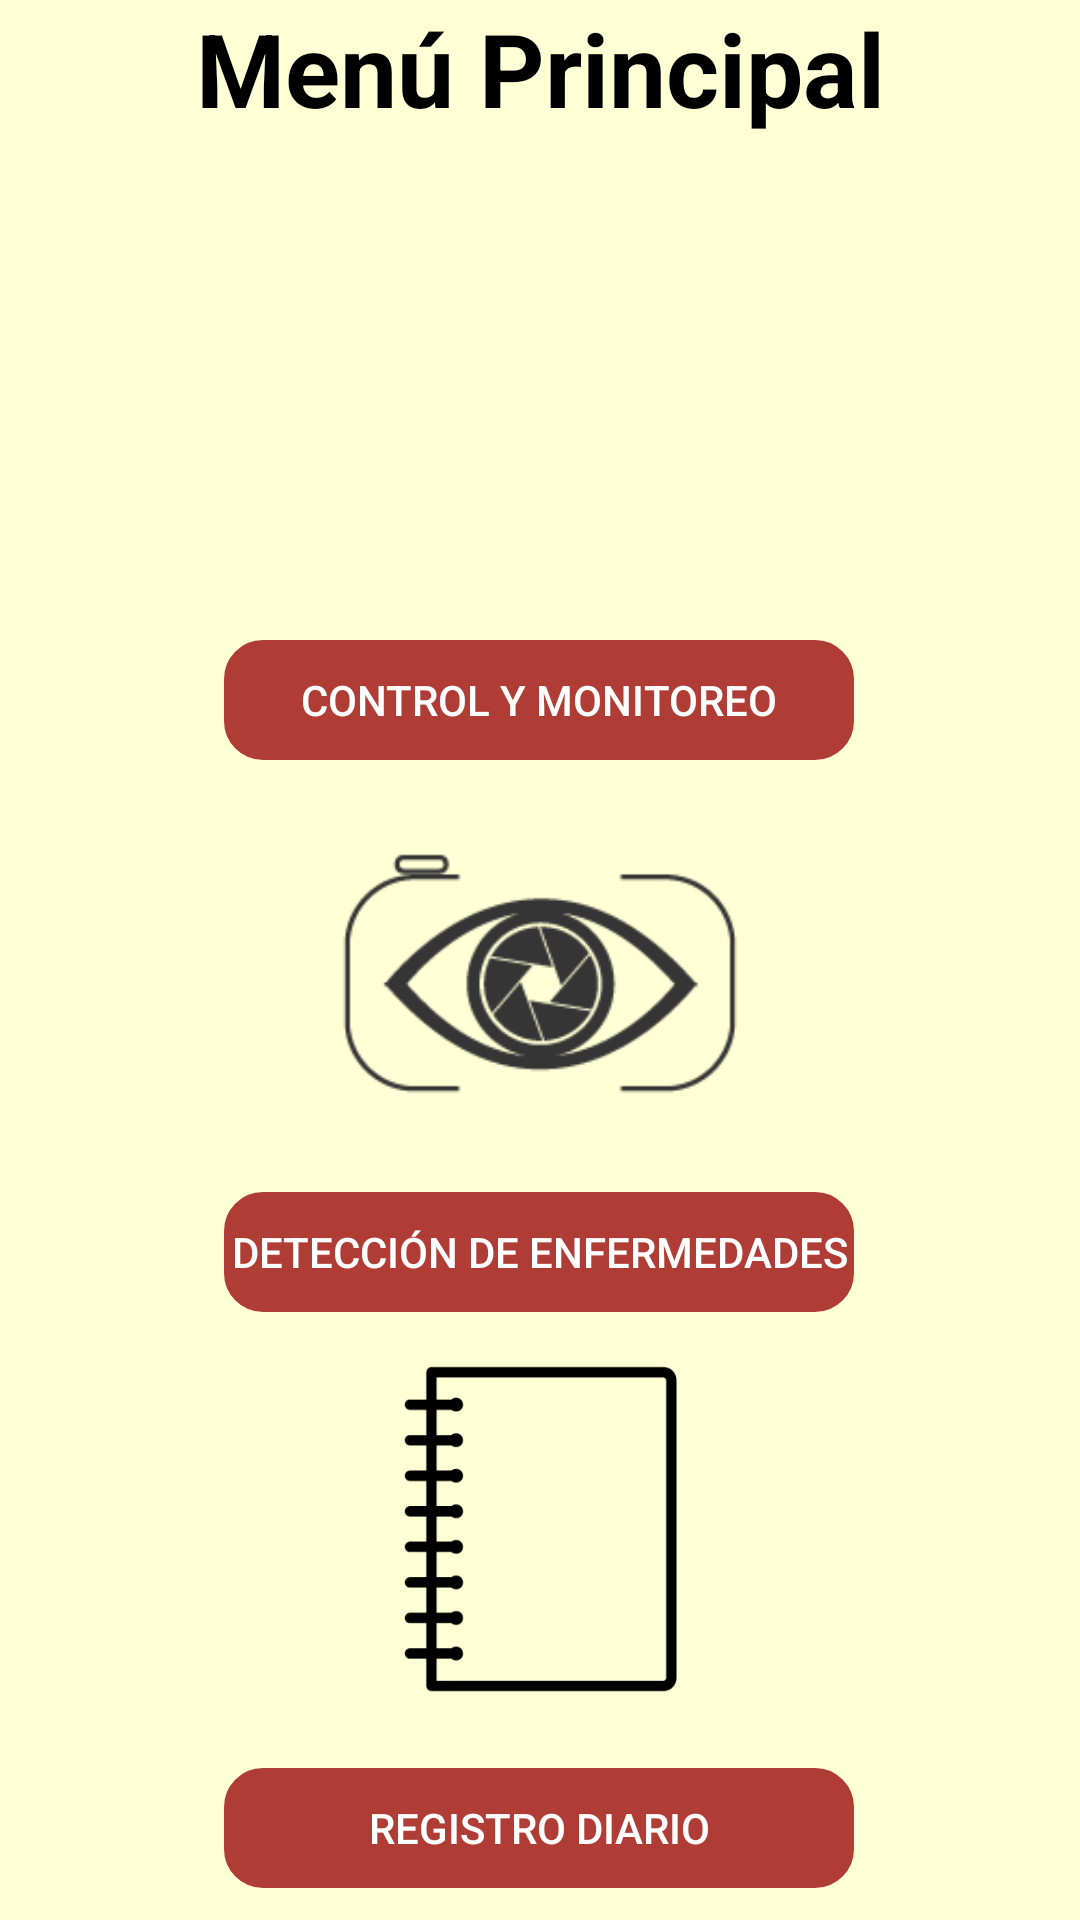

Locate icon controls on the screen. Image size 1080 × 1920, boxes as {"x1": x1, "y1": y1, "x2": x2, "y2": y2}.
libreta: {"x1": 404, "y1": 1366, "x2": 677, "y2": 1692}
